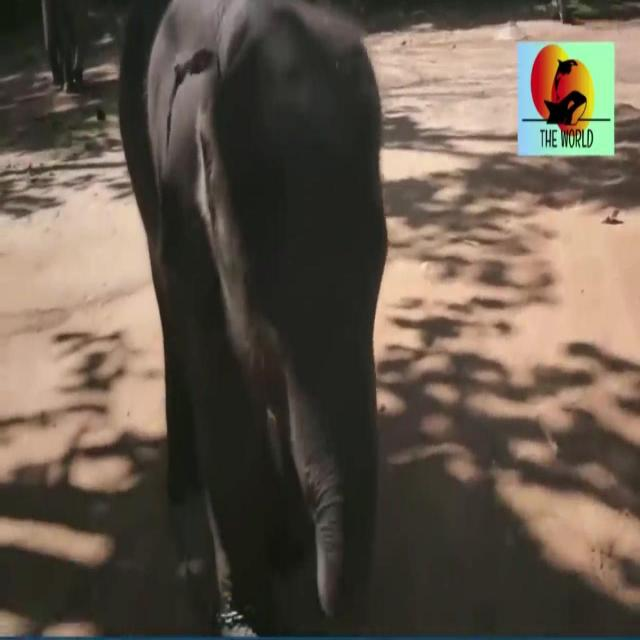Elephant: (161, 24, 390, 458)
